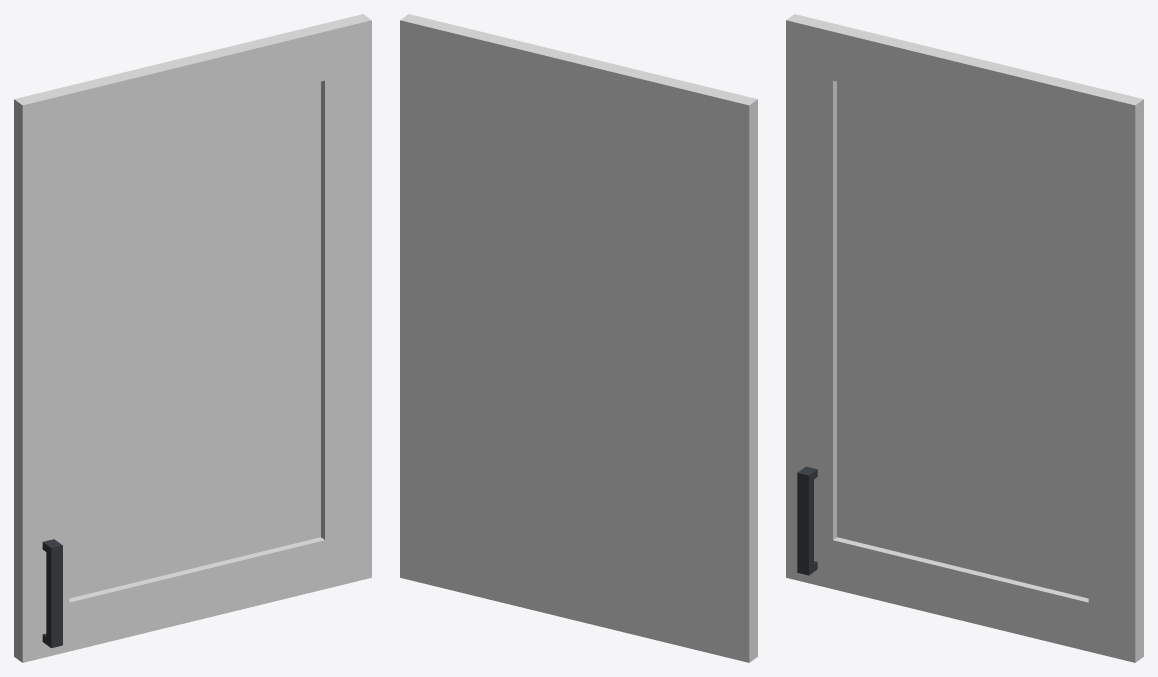
The model's file is Door2_C1_11.fbx.
3 renders of one model, left to right at view 1: azimuth 30°, elevation 25°; view 2: azimuth 150°, elevation 25°; view 3: azimuth 330°, elevation 25°, orthographic.
Parts seen in each view (by area): view 1: Door2_C1_11; view 2: Door2_C1_11; view 3: Door2_C1_11.
Boxes of the visible parts, x1,y1,x2,y2 form: Door2_C1_11: (14, 14, 371, 662); Door2_C1_11: (400, 14, 757, 662); Door2_C1_11: (786, 14, 1143, 662).
Bounding box in the file's own units: 59 × 90 × 5.03.
